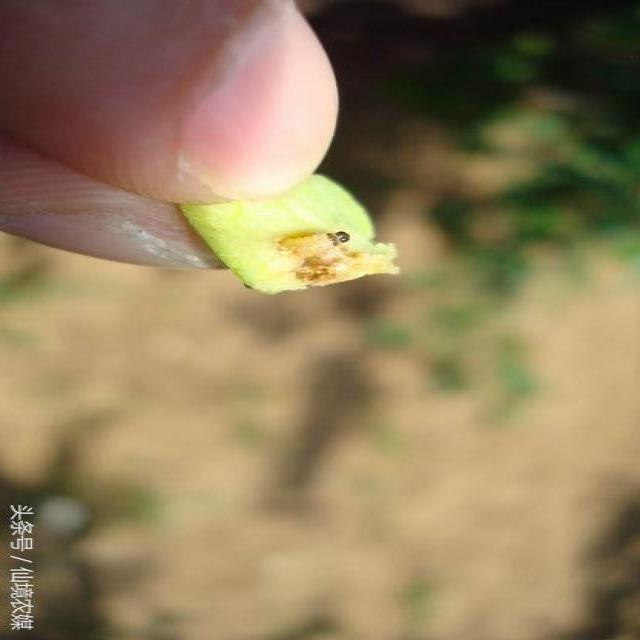peach borer: (272, 226, 356, 269)
